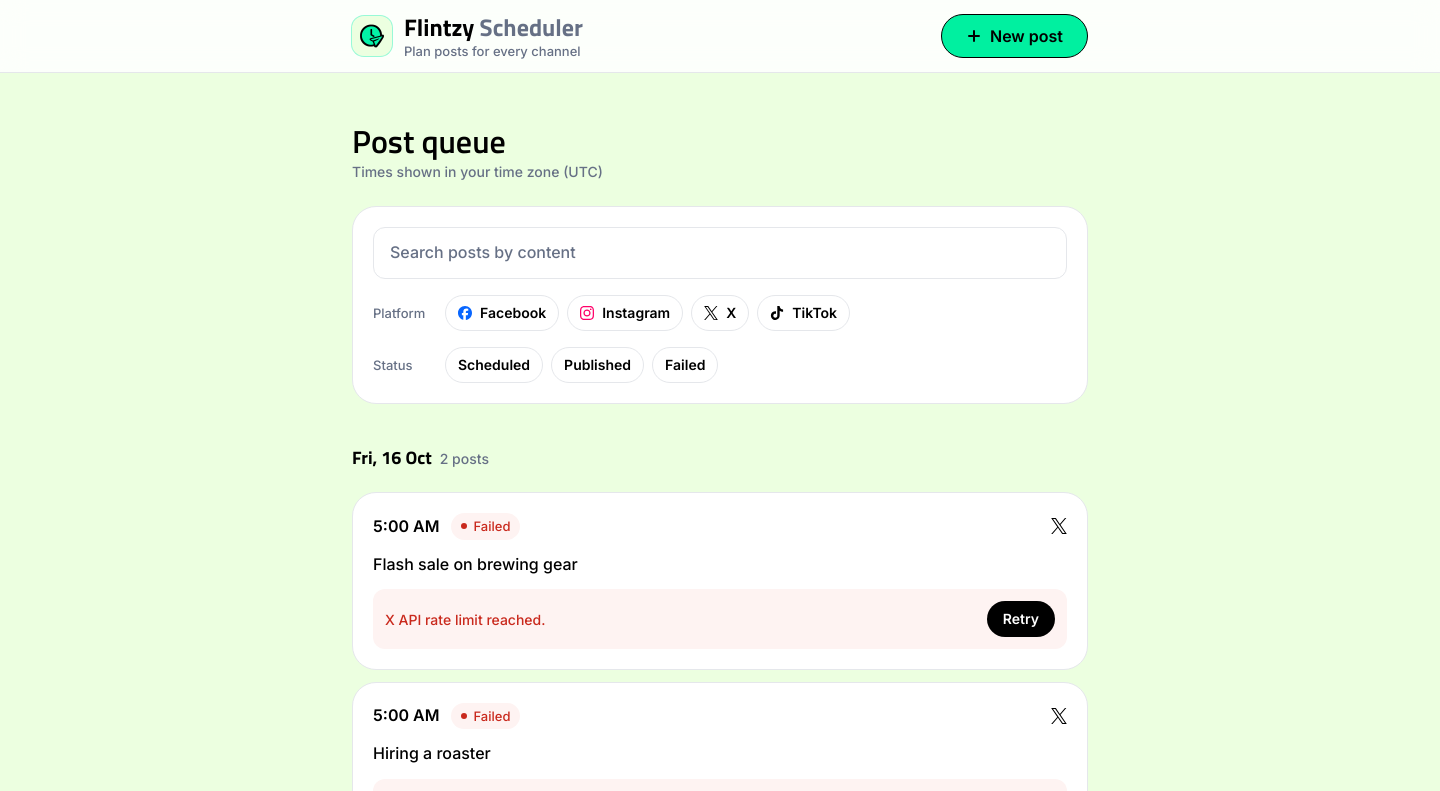
retrying failed posts › keeps concurrent retries independent
The image size is (1440, 791).
Expected: the text "Flash sale on brewing gear" is shown, [373,554,578,574]
Click the button "Retry" in the row of "X API rate limit reached.".
click(1021, 619)  # box [987,601,1055,637]
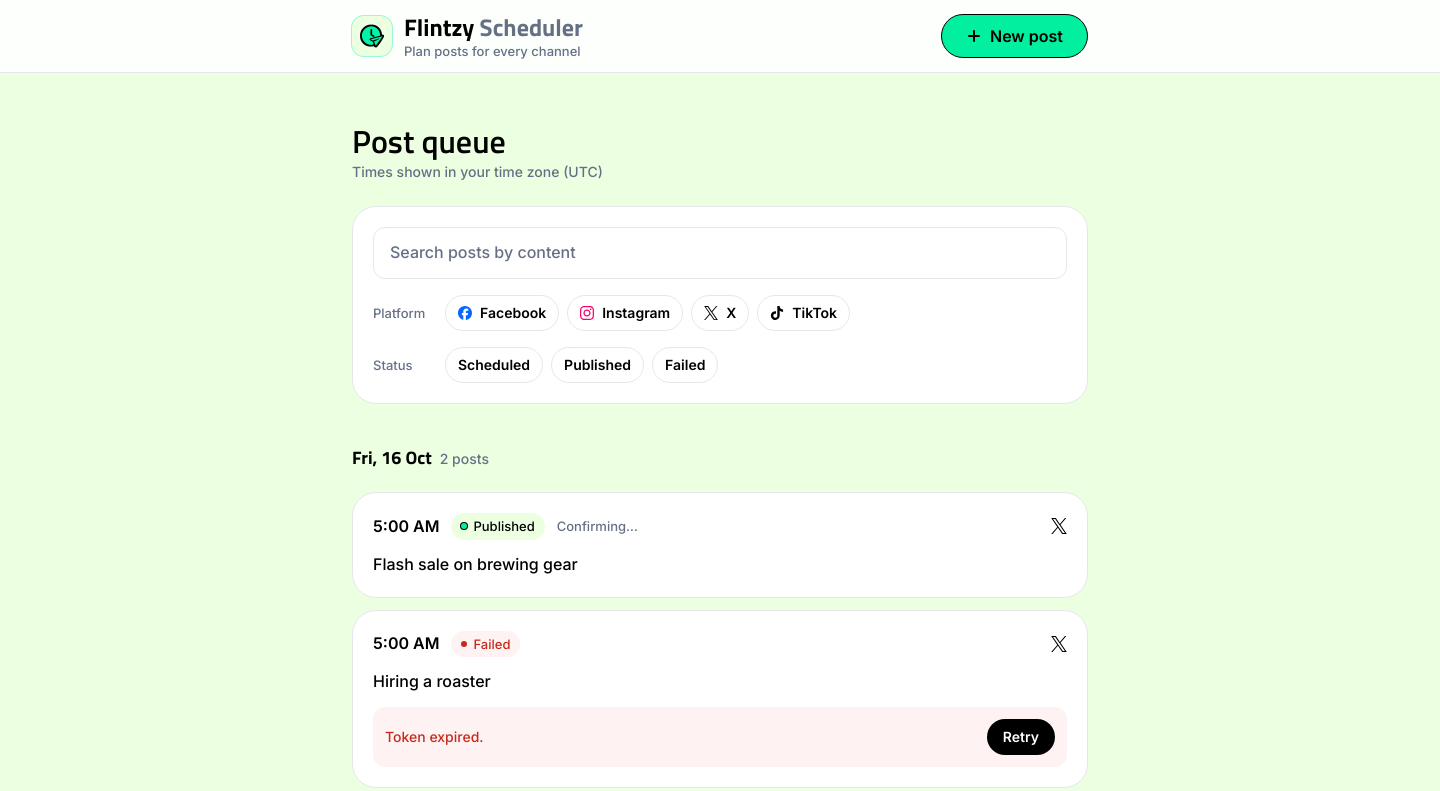
Click the button "Retry".
click(1021, 737)  # box [987,719,1055,755]
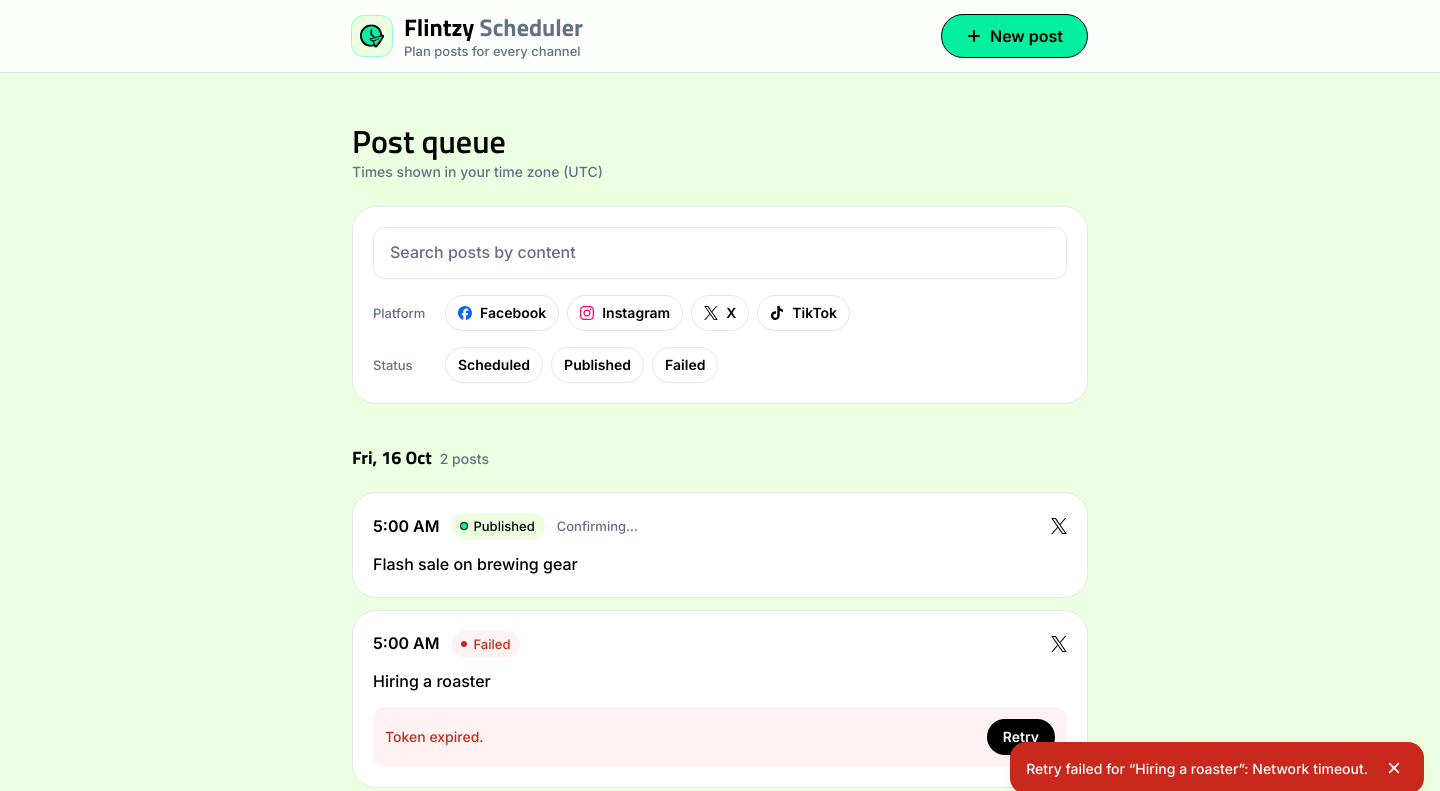
Expected: the text "Published" is shown, [451,513,545,540]
Expected: the text "Confirming…" is shown, [557,517,638,536]
Expected: the text "Retry failed for “Hiring a roaster”: Network timeout." is shown, [1026,758,1368,778]
